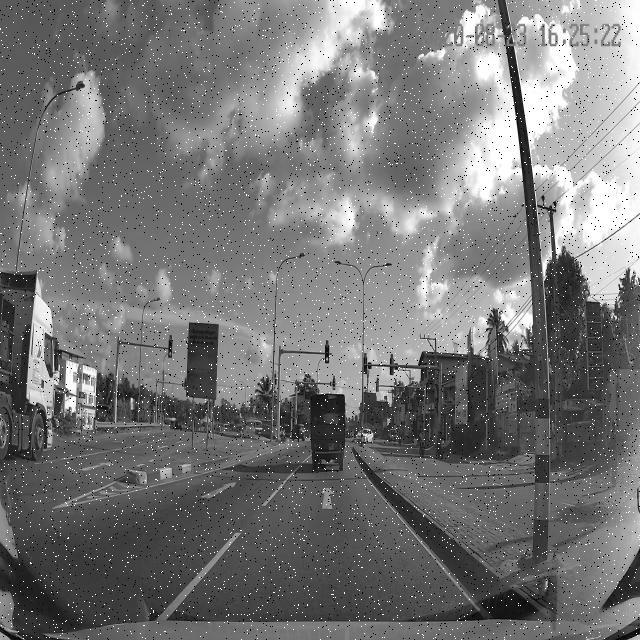forward: (231, 471, 420, 525)
